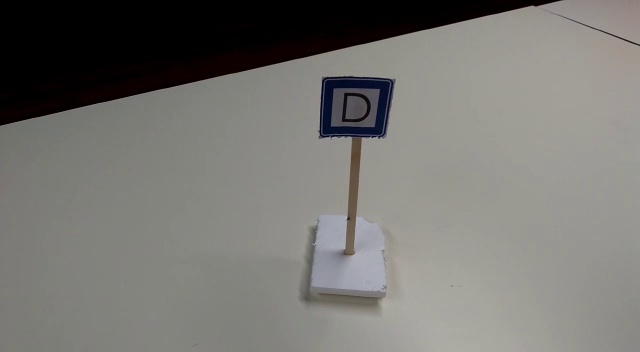durak: (319, 77, 391, 137)
